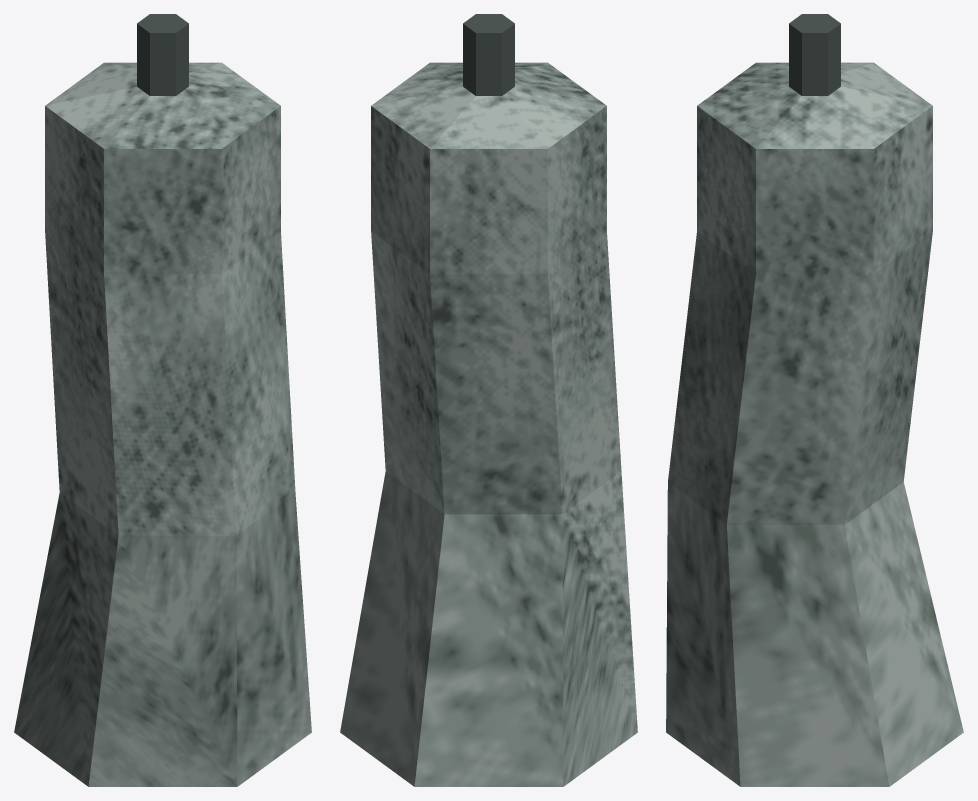
Rendered from Capilla_assets_vela.fbx.
The picture shows the model from 3 angles, left to right: view 1: azimuth 30°, elevation 25°; view 2: azimuth 150°, elevation 25°; view 3: azimuth 270°, elevation 25°; orthographic projection.
Visible parts, largest first — view 1: Capilla_Vela; view 2: Capilla_Vela; view 3: Capilla_Vela.
Part boxes in pixels (x1,y1,x2,y2): Capilla_Vela: (14,14,311,786); Capilla_Vela: (340,14,637,786); Capilla_Vela: (666,14,963,786).
Bounding box in the file's own units: 33.29 × 101 × 38.44.
